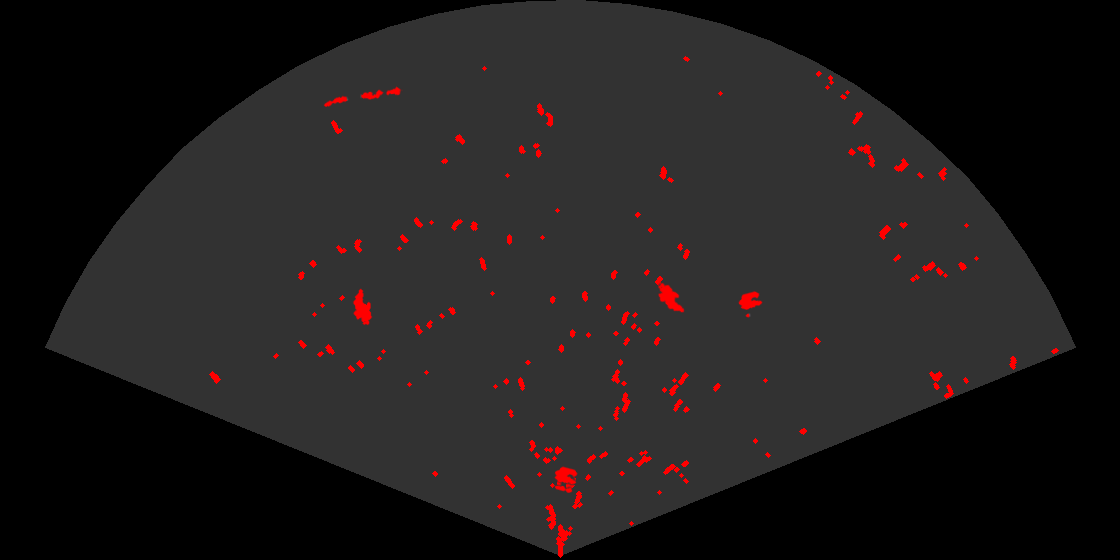AUV: (656, 281, 686, 314), (352, 287, 374, 327)
ball: (737, 290, 764, 319), (553, 465, 579, 494)
chain: (322, 85, 403, 108)
